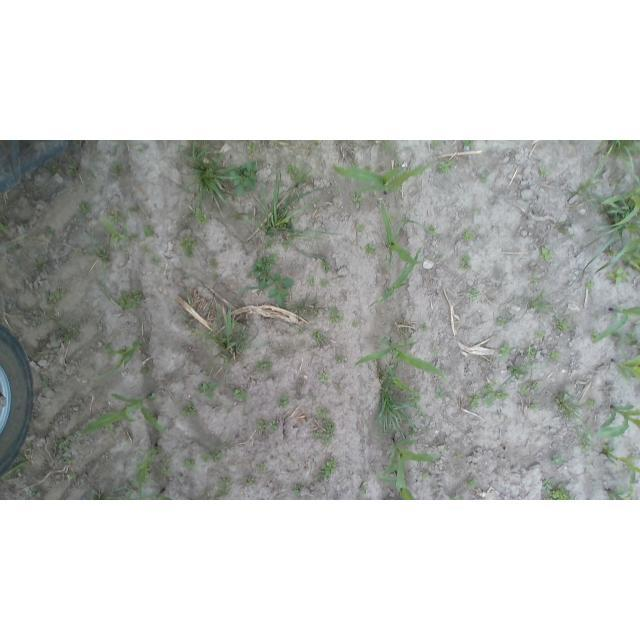Maize: (73, 390, 171, 439), (354, 335, 451, 384), (381, 433, 456, 496), (377, 200, 443, 264), (332, 155, 440, 194), (369, 247, 424, 310), (94, 337, 152, 379), (590, 304, 640, 344), (592, 403, 640, 438), (602, 447, 640, 484), (385, 469, 420, 500), (603, 473, 640, 500), (101, 220, 130, 252), (610, 356, 640, 382)
Weeds: (240, 171, 330, 250), (587, 182, 640, 269), (572, 141, 640, 204), (183, 141, 236, 212), (200, 301, 255, 368), (379, 370, 429, 437), (231, 156, 262, 199), (249, 252, 281, 293), (83, 226, 113, 267), (135, 443, 157, 496), (554, 391, 587, 423), (283, 296, 327, 320), (267, 274, 293, 310), (501, 360, 541, 383), (286, 154, 318, 182), (482, 377, 511, 407), (540, 477, 577, 500), (0, 453, 32, 479), (526, 293, 559, 316), (116, 289, 147, 311), (34, 310, 65, 331), (197, 380, 222, 403), (177, 236, 200, 261), (185, 199, 207, 225), (315, 455, 337, 481), (105, 157, 129, 179), (321, 418, 337, 450), (91, 486, 129, 499), (41, 287, 67, 305), (607, 268, 630, 287), (554, 316, 575, 335), (180, 403, 200, 422), (435, 157, 456, 175), (256, 418, 279, 434), (256, 358, 276, 376), (519, 381, 543, 396), (407, 391, 427, 409), (107, 210, 129, 226), (231, 386, 251, 403), (555, 221, 576, 237), (184, 457, 201, 476), (350, 190, 366, 210), (457, 252, 473, 272), (58, 436, 76, 453), (579, 433, 595, 452), (66, 159, 82, 178), (328, 307, 344, 325), (500, 343, 515, 362), (465, 392, 481, 409), (313, 370, 330, 386), (539, 247, 554, 265), (209, 446, 224, 464), (219, 475, 235, 491), (547, 348, 564, 363), (242, 475, 259, 490), (312, 329, 327, 346), (32, 253, 46, 271), (160, 455, 170, 480), (244, 140, 261, 154), (127, 203, 148, 214), (56, 456, 75, 468), (142, 225, 161, 237), (363, 243, 378, 258), (79, 200, 93, 216), (292, 483, 307, 497), (33, 181, 44, 199), (462, 229, 476, 243), (526, 346, 540, 360), (552, 455, 567, 468), (69, 321, 79, 340), (401, 324, 412, 341), (468, 288, 481, 302), (466, 478, 481, 490), (41, 226, 59, 236), (315, 408, 330, 420), (525, 401, 541, 412), (277, 394, 288, 410), (38, 380, 55, 390), (256, 460, 269, 473), (355, 220, 367, 234), (421, 321, 433, 335), (82, 174, 94, 188), (538, 166, 549, 181), (432, 347, 444, 360), (150, 256, 162, 269), (1, 222, 12, 236), (30, 348, 41, 362), (123, 227, 138, 237), (358, 483, 370, 495), (497, 316, 510, 327), (321, 260, 332, 273), (584, 281, 598, 291), (285, 451, 295, 465), (208, 258, 220, 269), (32, 490, 45, 500), (210, 273, 223, 283), (319, 277, 329, 290), (585, 398, 596, 408), (434, 387, 445, 397), (200, 453, 211, 463), (49, 164, 59, 175), (141, 244, 151, 255), (314, 430, 324, 441), (461, 140, 474, 148), (350, 319, 360, 329), (449, 494, 465, 500), (62, 331, 71, 341), (481, 169, 487, 183), (531, 277, 540, 286), (335, 356, 345, 364), (429, 224, 438, 232), (536, 332, 545, 340), (69, 475, 77, 484), (306, 274, 314, 283), (470, 207, 480, 214), (454, 452, 464, 459), (296, 326, 304, 334), (421, 473, 431, 479), (311, 395, 318, 401)
